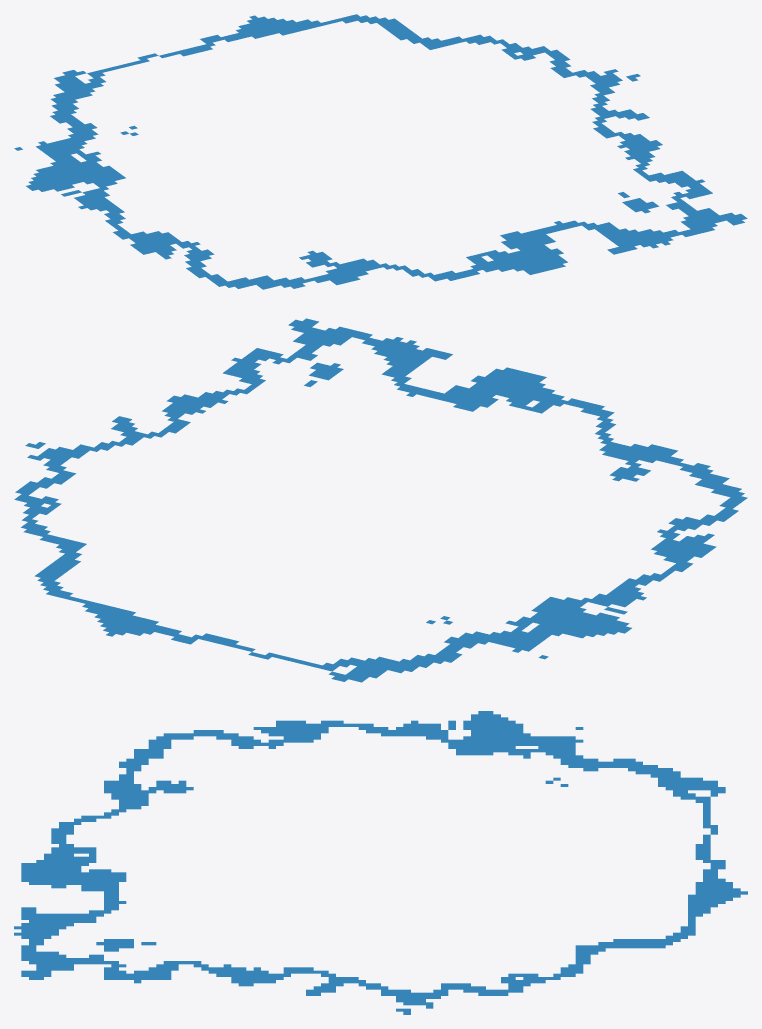
File: Isl-rocky4-PlaceForWaterObjects.fbx
The picture shows the model from 3 angles, top to bottom: view 1: azimuth 30°, elevation 25°; view 2: azimuth 150°, elevation 25°; view 3: azimuth 270°, elevation 25°; orthographic projection. The views are drawn at different scales.
Parts seen in each view (by area): view 1: Isl-rocky4-PlaceForWaterObjects; view 2: Isl-rocky4-PlaceForWaterObjects; view 3: Isl-rocky4-PlaceForWaterObjects.
Boxes of the visible parts, box(x1,y1,x2,y2) form: Isl-rocky4-PlaceForWaterObjects: box(14, 14, 747, 289); Isl-rocky4-PlaceForWaterObjects: box(14, 318, 747, 682); Isl-rocky4-PlaceForWaterObjects: box(14, 711, 747, 1014).
Size of the model in its own units: 96 by 0 by 98.
